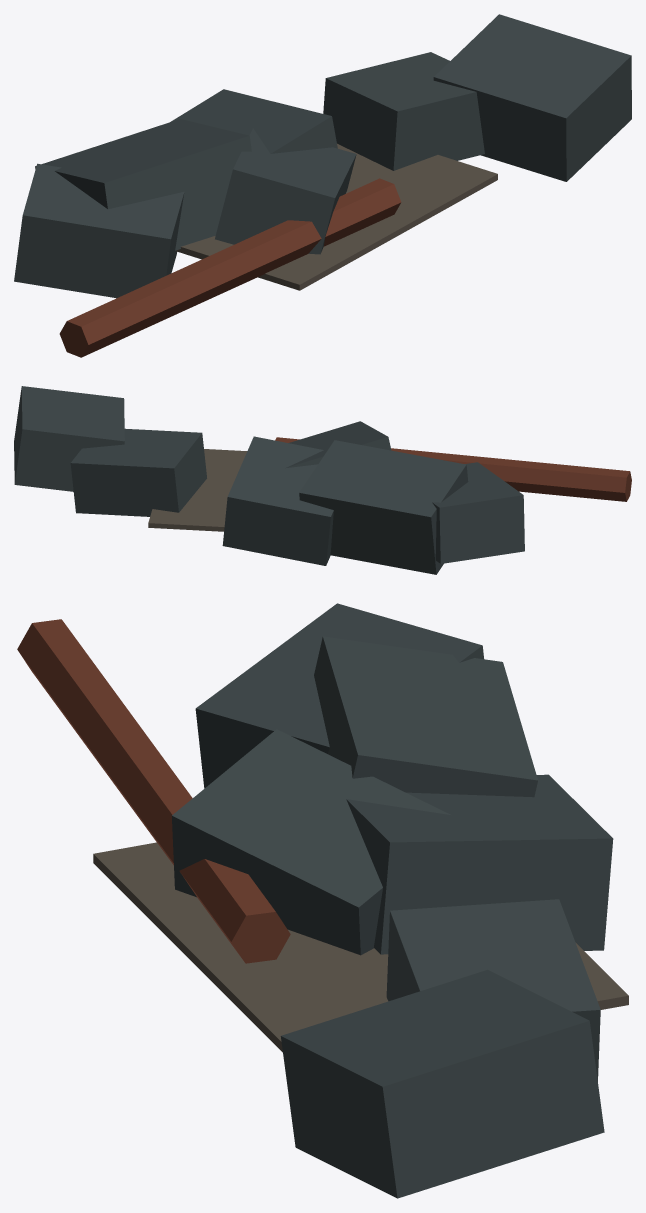
Rendered from debris.glb.
The picture shows the model from 3 angles, top to bottom: view 1: azimuth 30°, elevation 25°; view 2: azimuth 150°, elevation 25°; view 3: azimuth 270°, elevation 25°; orthographic projection. The views are drawn at different scales.
Visible parts, largest first — view 1: debris; view 2: debris; view 3: debris.
Part boxes in pixels (x1,y1,x2,y2): debris: [14, 14, 631, 357]; debris: [14, 386, 631, 574]; debris: [17, 603, 628, 1198].
Size of the model in its own units: 1.18 by 0.1868 by 0.5906.
